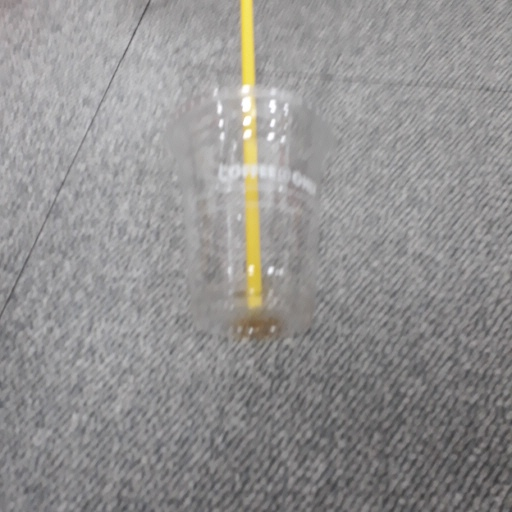Plastic_2: (175, 1, 324, 339)
